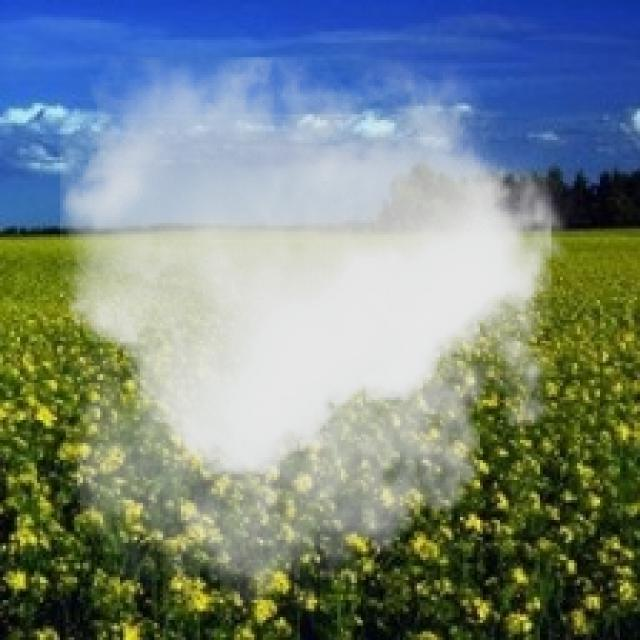smoke: (60, 57, 583, 623)
